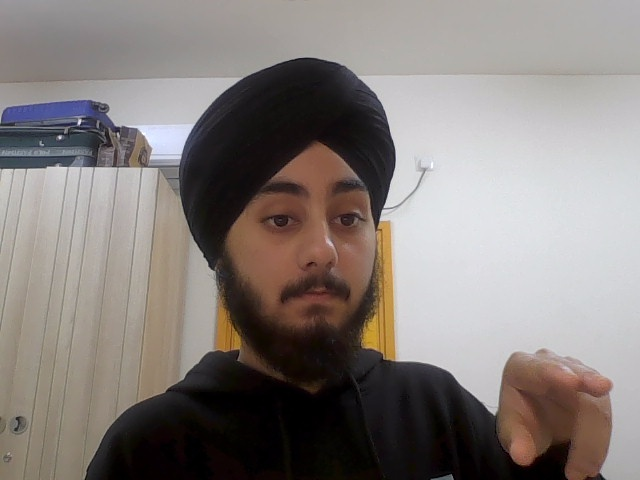No: (494, 341, 619, 480)
